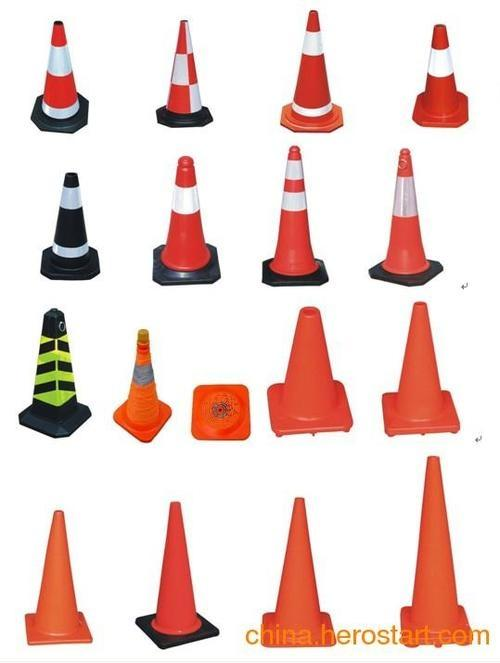cone_barrel: (398, 454, 473, 648), (258, 498, 337, 649), (268, 305, 355, 437), (380, 301, 458, 435), (142, 500, 209, 643), (22, 509, 91, 646), (261, 144, 327, 287), (18, 307, 89, 434), (370, 149, 436, 284), (278, 9, 344, 135), (153, 156, 216, 282), (38, 170, 102, 280), (28, 20, 89, 133), (111, 328, 170, 440), (154, 17, 213, 126), (409, 24, 470, 128)
